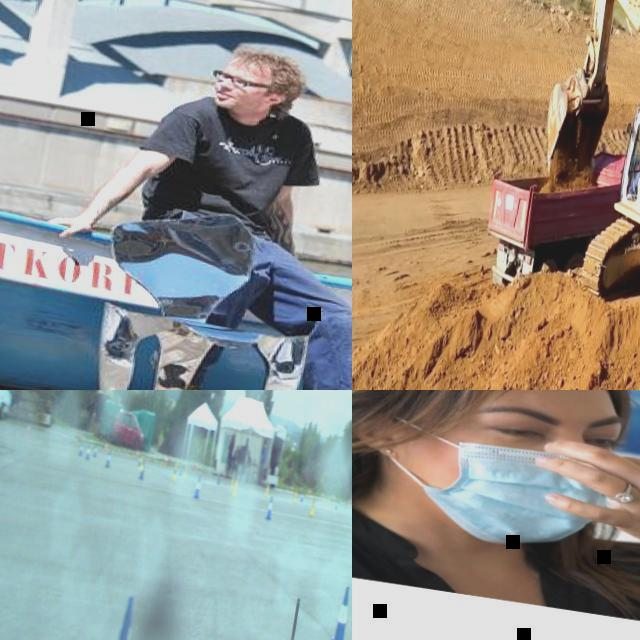machinery: (519, 0, 640, 336), (477, 136, 631, 300)
mask: (369, 415, 619, 562)
no_helmet: (228, 48, 306, 86)
no_mask: (210, 84, 270, 115)
no_vest: (352, 491, 640, 631), (152, 89, 312, 232)
person: (20, 22, 352, 390), (352, 390, 640, 640), (629, 157, 640, 199)
safety_cone: (97, 593, 144, 640), (328, 584, 352, 640), (264, 496, 276, 522), (193, 476, 203, 500), (104, 446, 114, 469), (170, 461, 180, 482), (138, 460, 148, 480), (85, 441, 93, 461), (78, 439, 86, 458), (231, 480, 239, 498), (310, 498, 316, 518), (92, 443, 100, 458), (138, 455, 144, 470), (178, 463, 184, 477), (216, 472, 222, 486), (264, 484, 270, 498), (61, 430, 67, 443), (26, 422, 32, 434), (103, 440, 109, 452), (182, 466, 188, 478), (293, 492, 299, 503), (299, 492, 305, 503), (325, 498, 330, 511), (134, 448, 140, 458), (163, 456, 169, 466), (230, 476, 234, 489), (334, 498, 338, 511), (138, 454, 142, 466), (290, 484, 294, 494), (348, 498, 352, 506), (308, 489, 312, 496), (320, 491, 324, 498)
